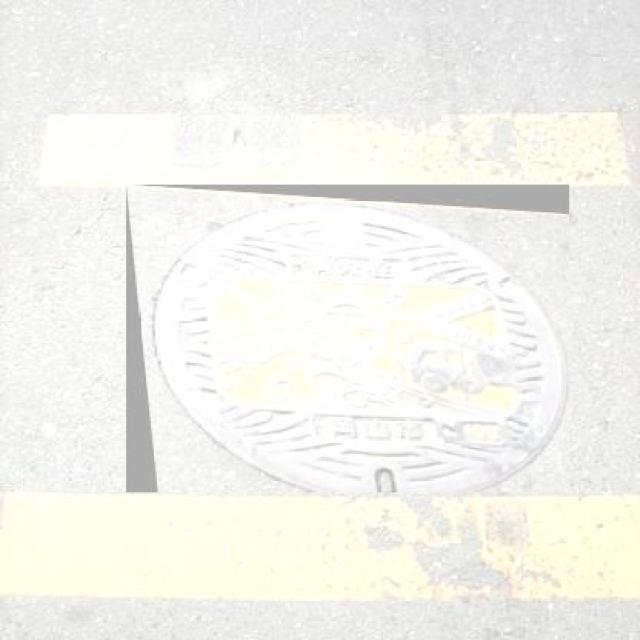Manhole: (125, 185, 570, 492)
